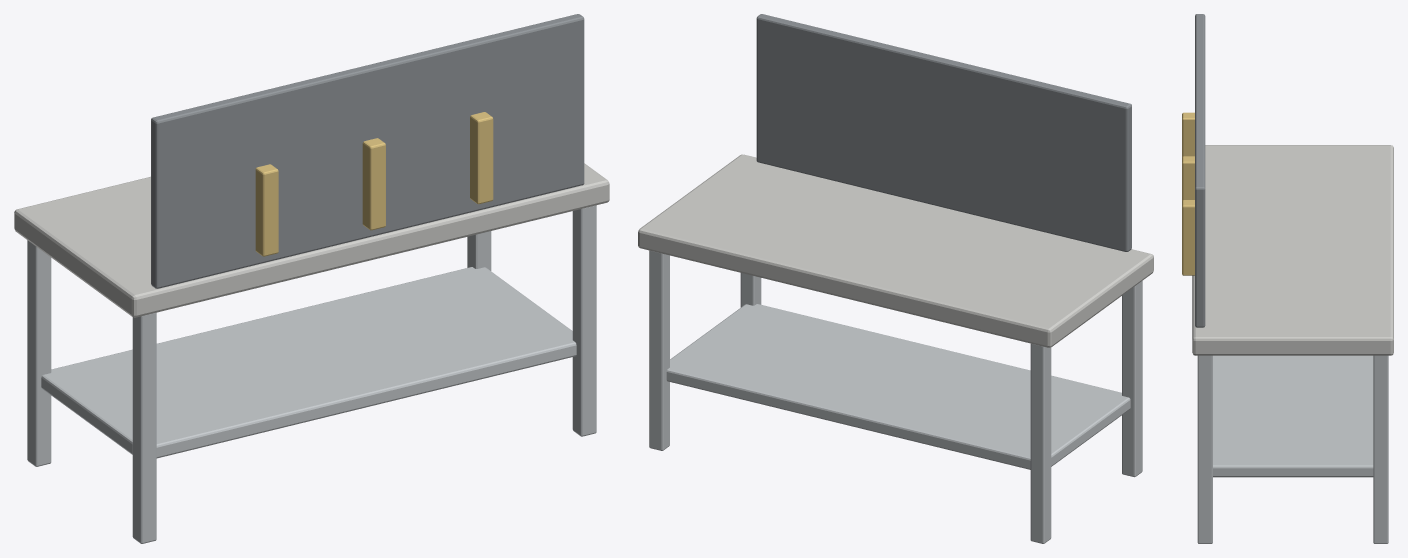
The model's file is P_workbench.fbx.
3 views of the same model, side by side, from view 1: azimuth 30°, elevation 25°; view 2: azimuth 150°, elevation 25°; view 3: azimuth 270°, elevation 25° (orthographic). The views are drawn at different scales.
Visible parts, largest first — view 1: P_workbench; view 2: P_workbench; view 3: P_workbench.
Boxes of the visible parts, x1=… form: P_workbench: x1=14, y1=14, x2=609, y2=543; P_workbench: x1=638, y1=14, x2=1153, y2=543; P_workbench: x1=1182, y1=14, x2=1393, y2=543.
Size of the model in its own units: 1.78 by 1.5 by 0.82.
